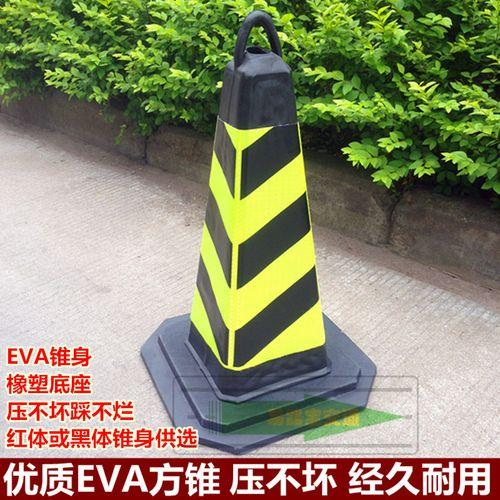sign: (142, 13, 382, 451)
